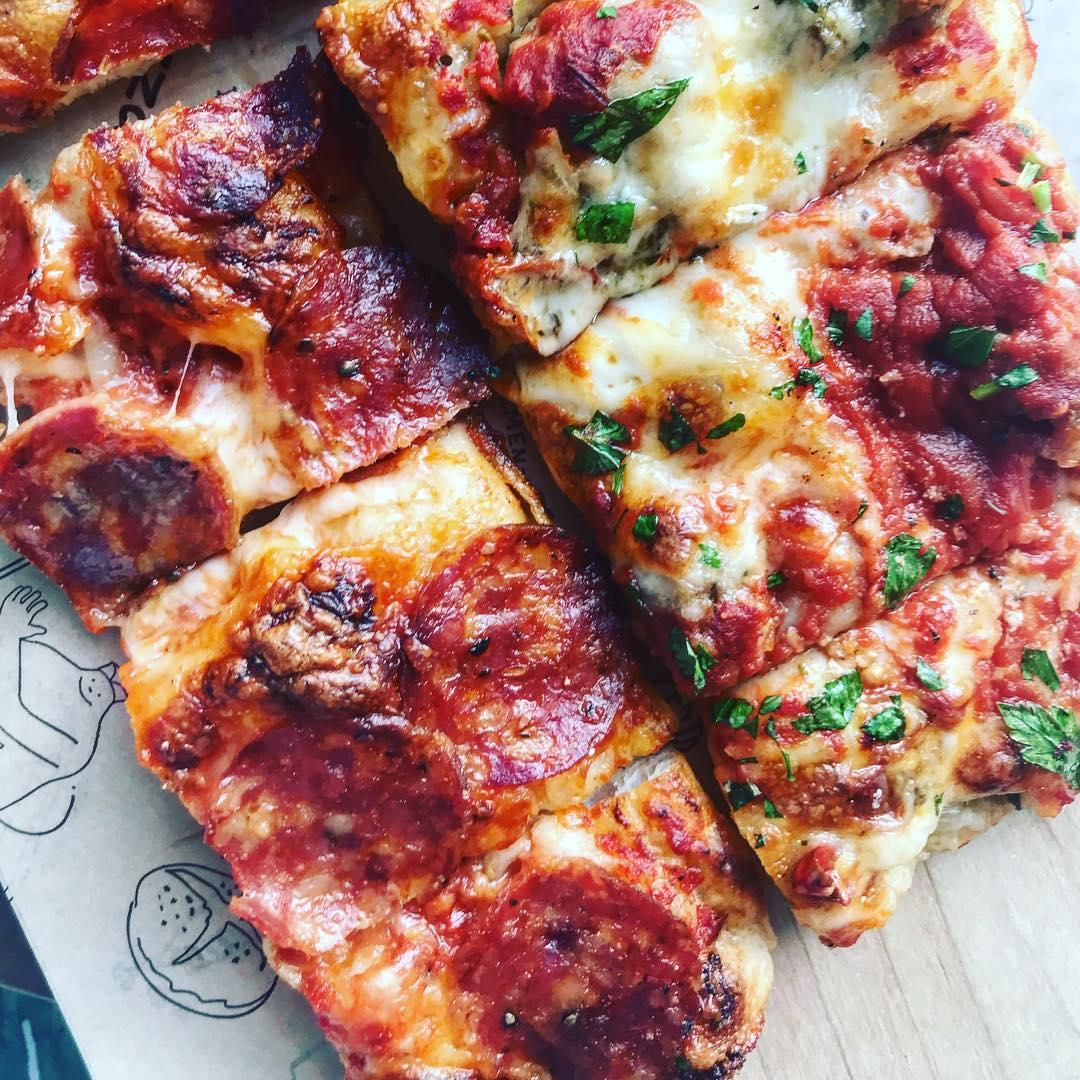Pepperoni: (199, 699, 483, 966), (384, 509, 637, 797), (442, 842, 728, 1080), (251, 233, 523, 477), (0, 389, 248, 638), (47, 0, 282, 106), (0, 168, 48, 341)
Pizza: (0, 0, 1080, 1080)
